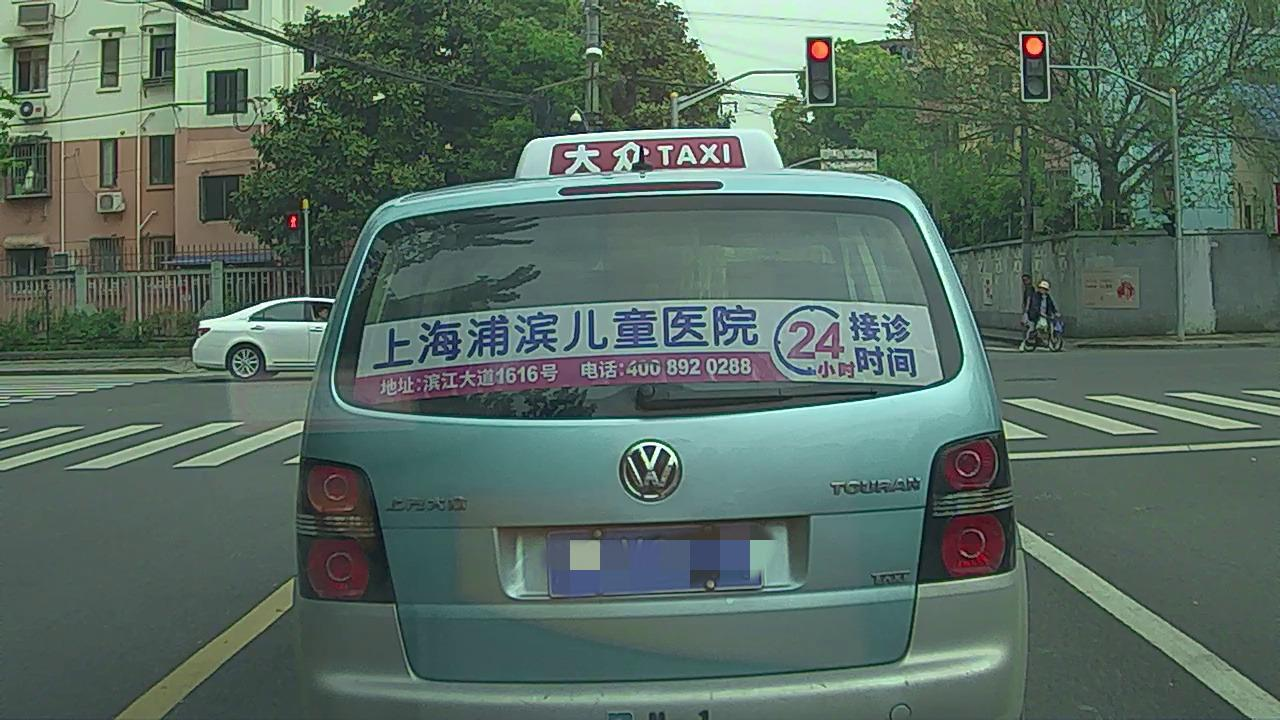traffic_light: (806, 36, 834, 103), (1023, 33, 1049, 99)
